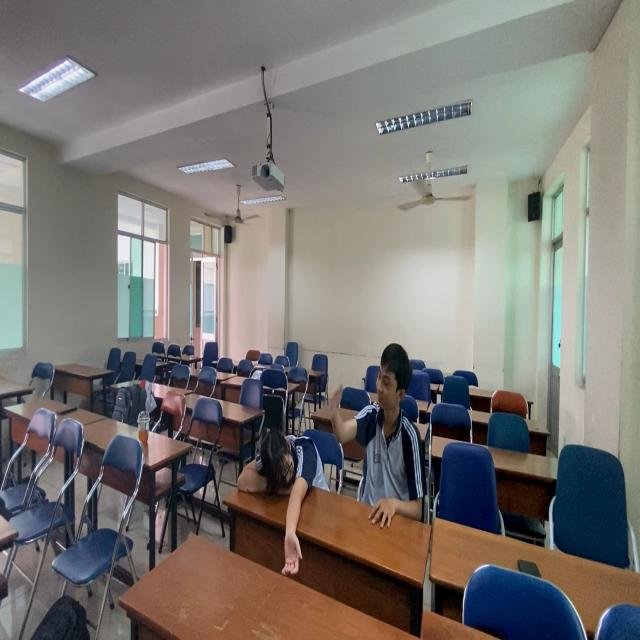sleep: (233, 425, 324, 515)
